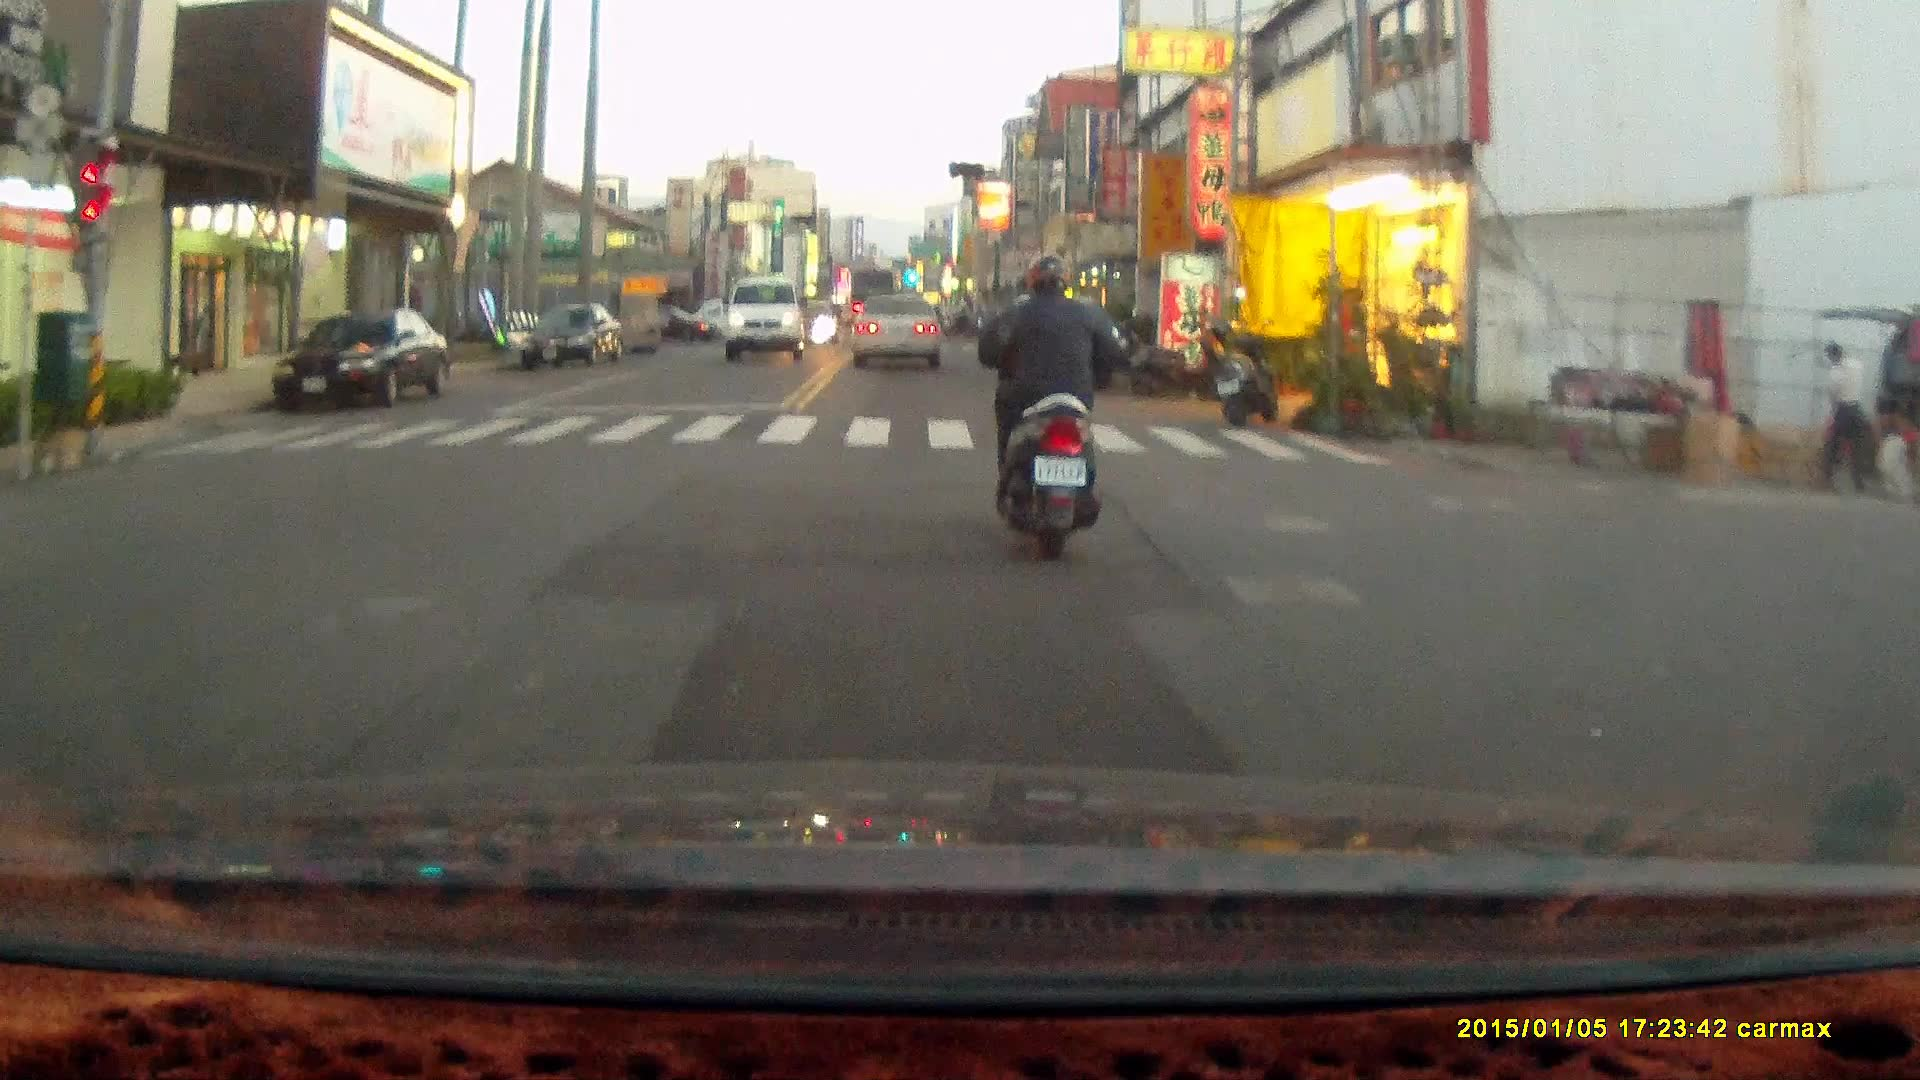pedestrian: (1810, 340, 1870, 496)
rider: (972, 251, 1109, 558)
vehicle: (269, 313, 450, 414), (519, 303, 624, 376), (723, 280, 807, 366), (855, 299, 953, 368)
